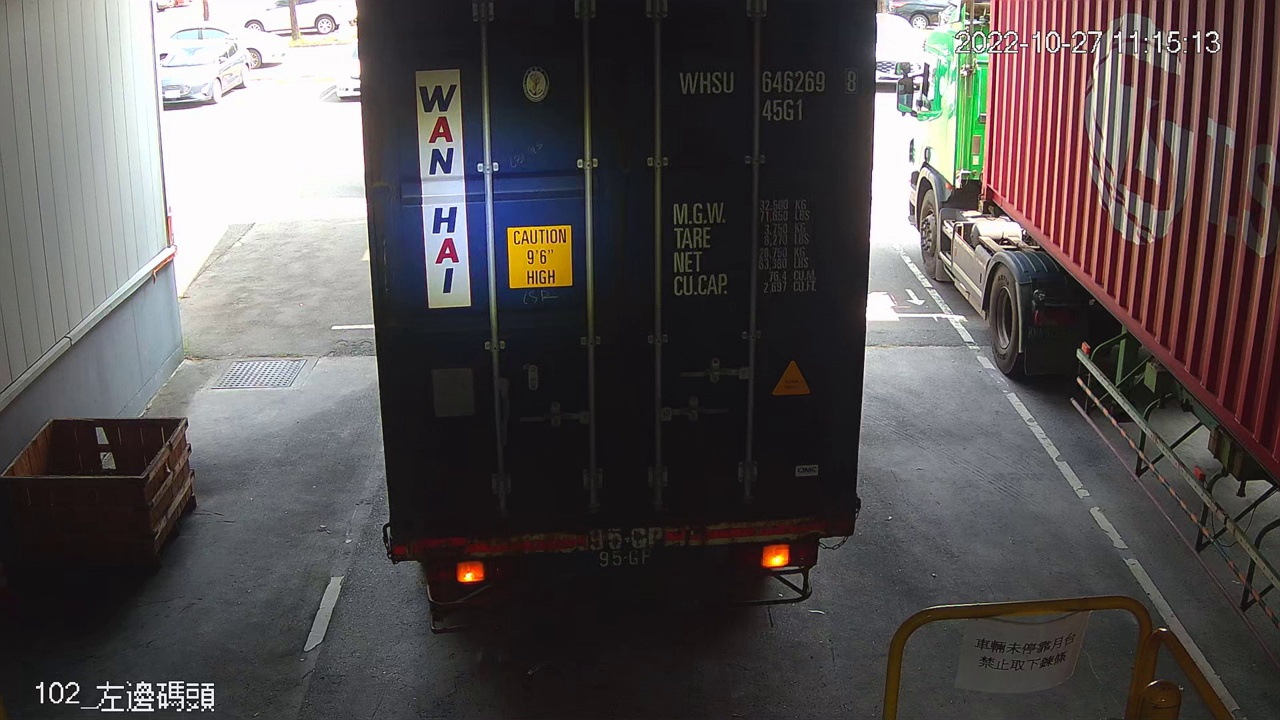container: (673, 61, 863, 130)
